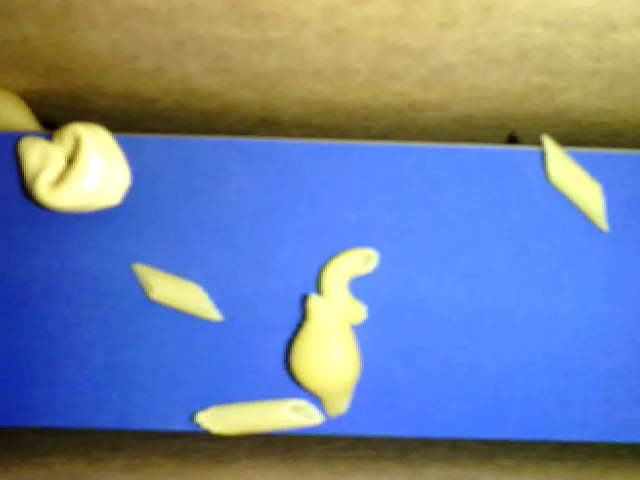elbow: (320, 248, 378, 326)
penne: (541, 134, 609, 231), (131, 262, 223, 321), (194, 398, 329, 436)
shell: (289, 292, 363, 418)
tortellini: (19, 123, 130, 211)
